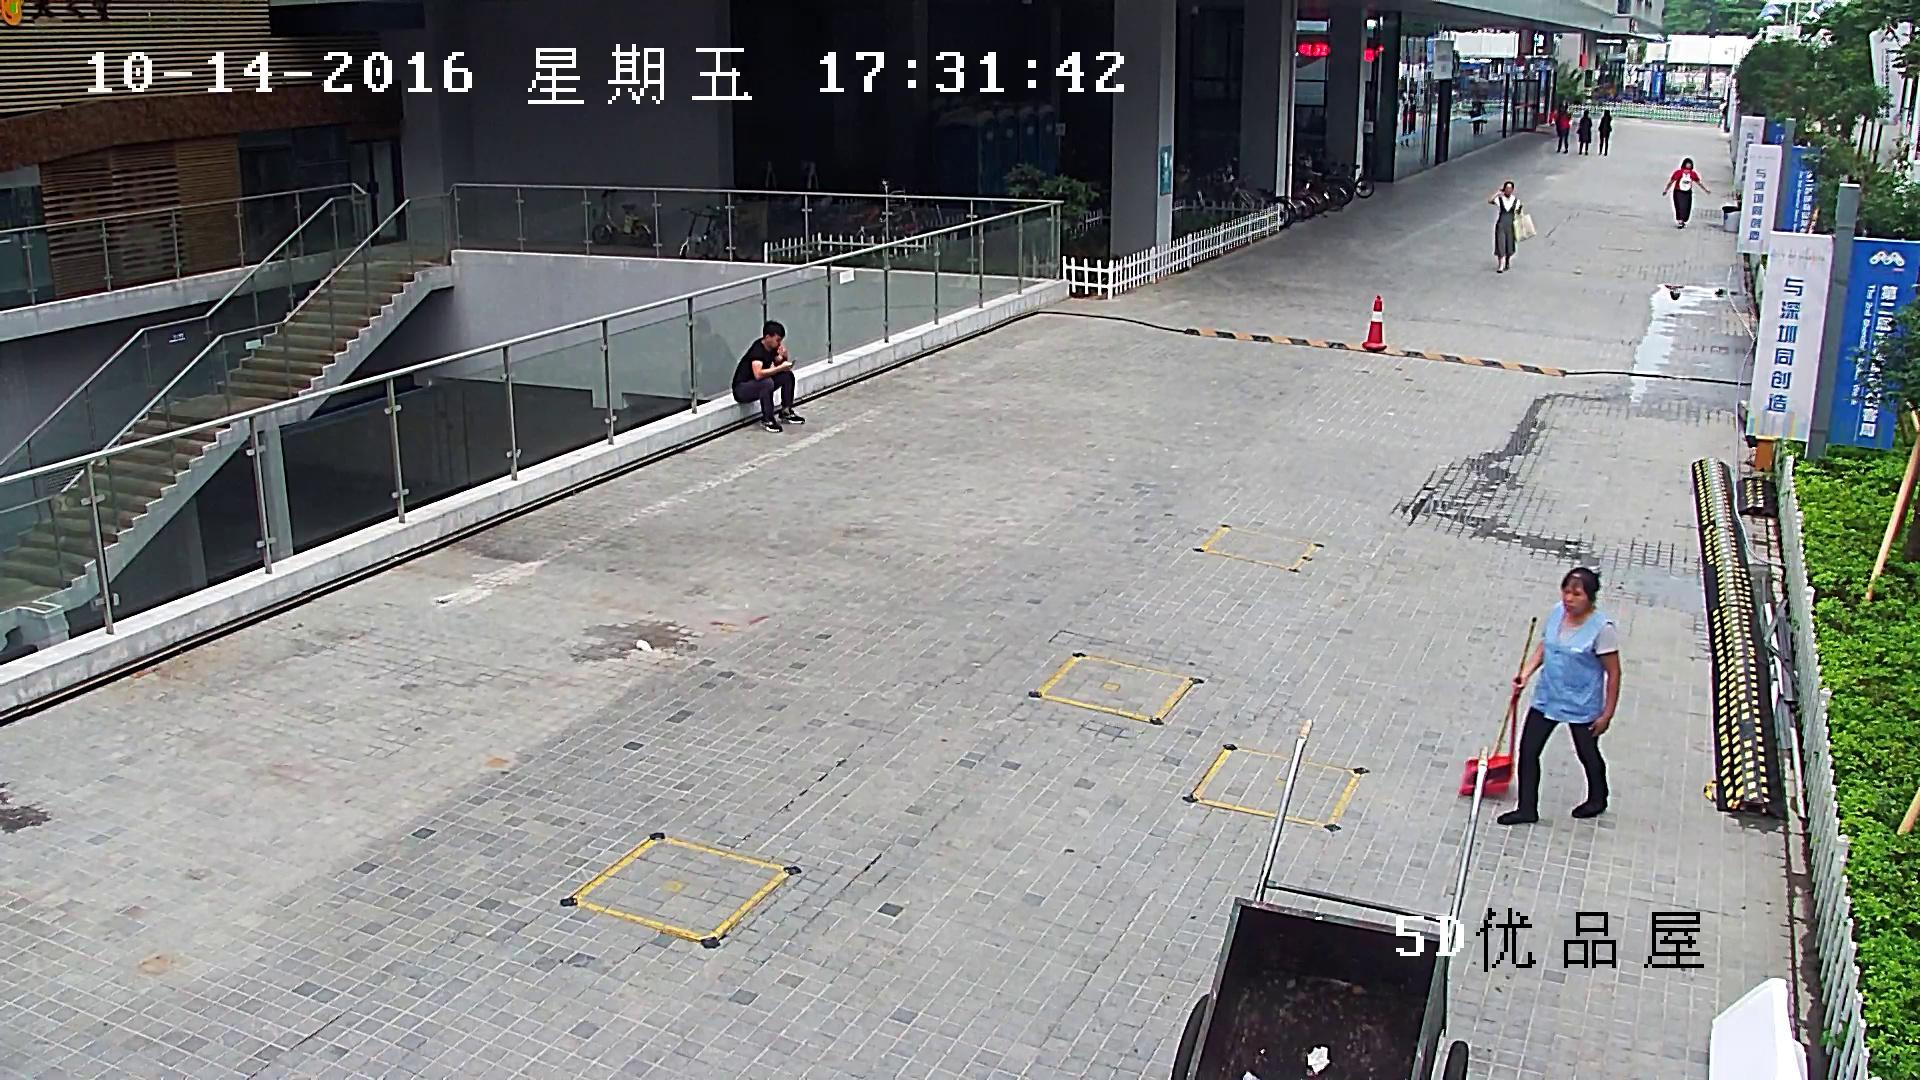person: (1459, 568, 1622, 824), (1497, 566, 1622, 824), (732, 320, 805, 432), (680, 312, 736, 404), (1488, 182, 1536, 272), (1662, 158, 1710, 228), (1488, 181, 1523, 272), (1576, 110, 1592, 155), (1555, 105, 1568, 153), (1598, 110, 1612, 155), (1470, 103, 1479, 135), (1717, 100, 1726, 127), (1479, 106, 1487, 135)
